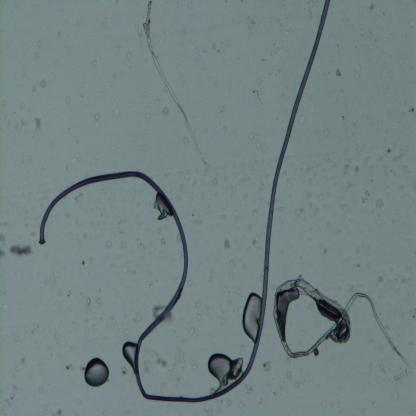Air bubble: (210, 349, 242, 385), (241, 292, 261, 342), (82, 355, 110, 387), (122, 340, 136, 372), (154, 196, 170, 218)
Background material: (9, 239, 33, 258), (248, 81, 266, 105), (242, 16, 263, 34), (155, 356, 176, 372), (306, 0, 315, 24), (359, 191, 373, 206), (158, 104, 171, 117), (83, 295, 92, 312), (381, 144, 392, 157), (156, 234, 166, 248), (154, 303, 164, 317), (32, 115, 42, 128), (73, 192, 84, 203), (18, 352, 27, 365), (92, 110, 100, 124), (367, 2, 377, 13), (261, 360, 270, 372), (38, 79, 47, 90), (90, 58, 99, 69), (406, 106, 416, 115), (334, 68, 342, 79), (206, 274, 214, 285), (352, 164, 360, 175), (223, 238, 230, 250), (65, 362, 74, 370), (376, 200, 384, 208), (189, 329, 195, 337)
Cellulose filter fibre: (271, 272, 416, 370), (142, 1, 204, 158)
Microfibre: (36, 0, 331, 405)
